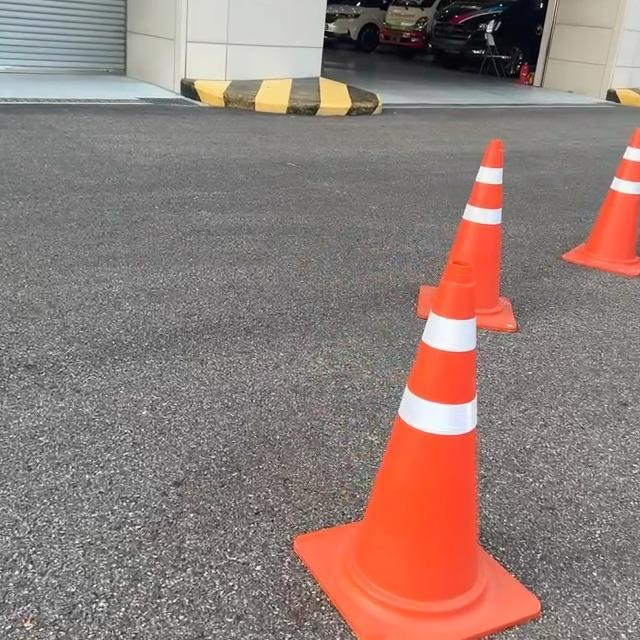fallen_object: (173, 227, 587, 640), (353, 119, 525, 340), (553, 66, 640, 303)
